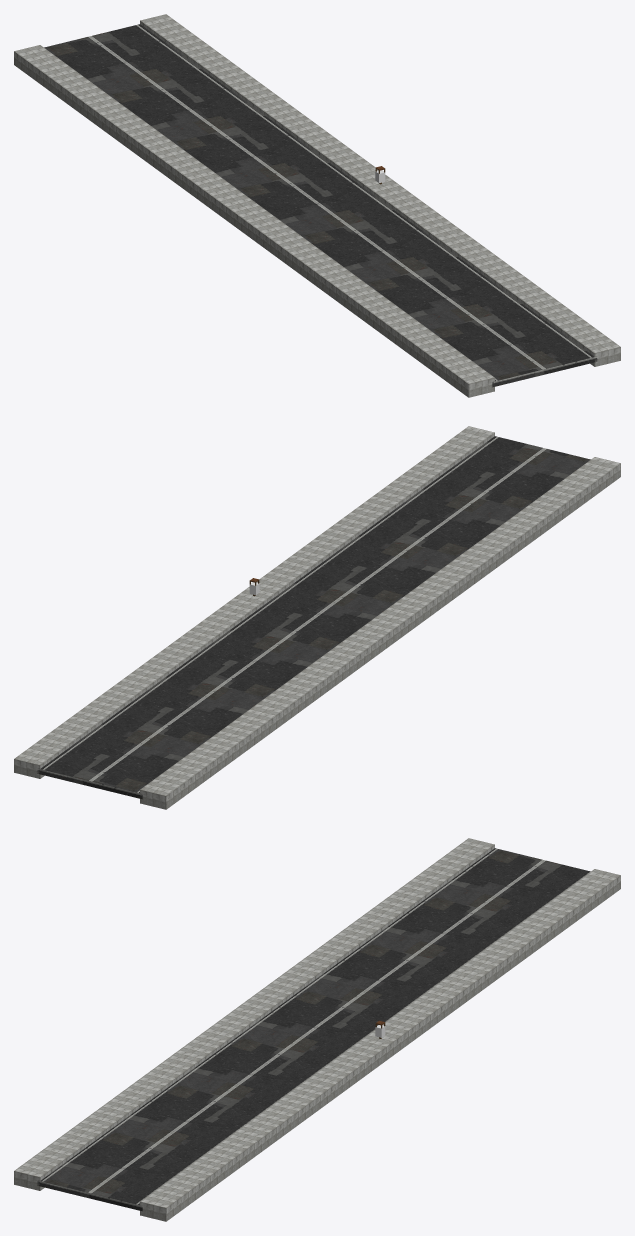
Rendered from abandoned_city.glb.
3 renders of one model, top to bottom at view 1: azimuth 30°, elevation 25°; view 2: azimuth 150°, elevation 25°; view 3: azimuth 330°, elevation 25°, orthographic.
Parts seen in each view (by area): view 1: Box, Box.001, Box.002; view 2: Box, Box.001, Box.002; view 3: Box, Box.002, Box.001.
Boxes of the visible parts, bbox=[...] form: Box: bbox=[44, 24, 597, 387]; Box.001: bbox=[14, 45, 494, 397]; Box.002: bbox=[140, 14, 620, 366]; Box: bbox=[37, 436, 590, 799]; Box.001: bbox=[140, 457, 620, 809]; Box.002: bbox=[14, 426, 494, 778]; Box: bbox=[37, 848, 590, 1211]; Box.002: bbox=[140, 869, 620, 1221]; Box.001: bbox=[14, 838, 494, 1190].
Size of the model in its own units: 58 by 10.77 by 300.
Materials: 8 (8 with a texture image).
